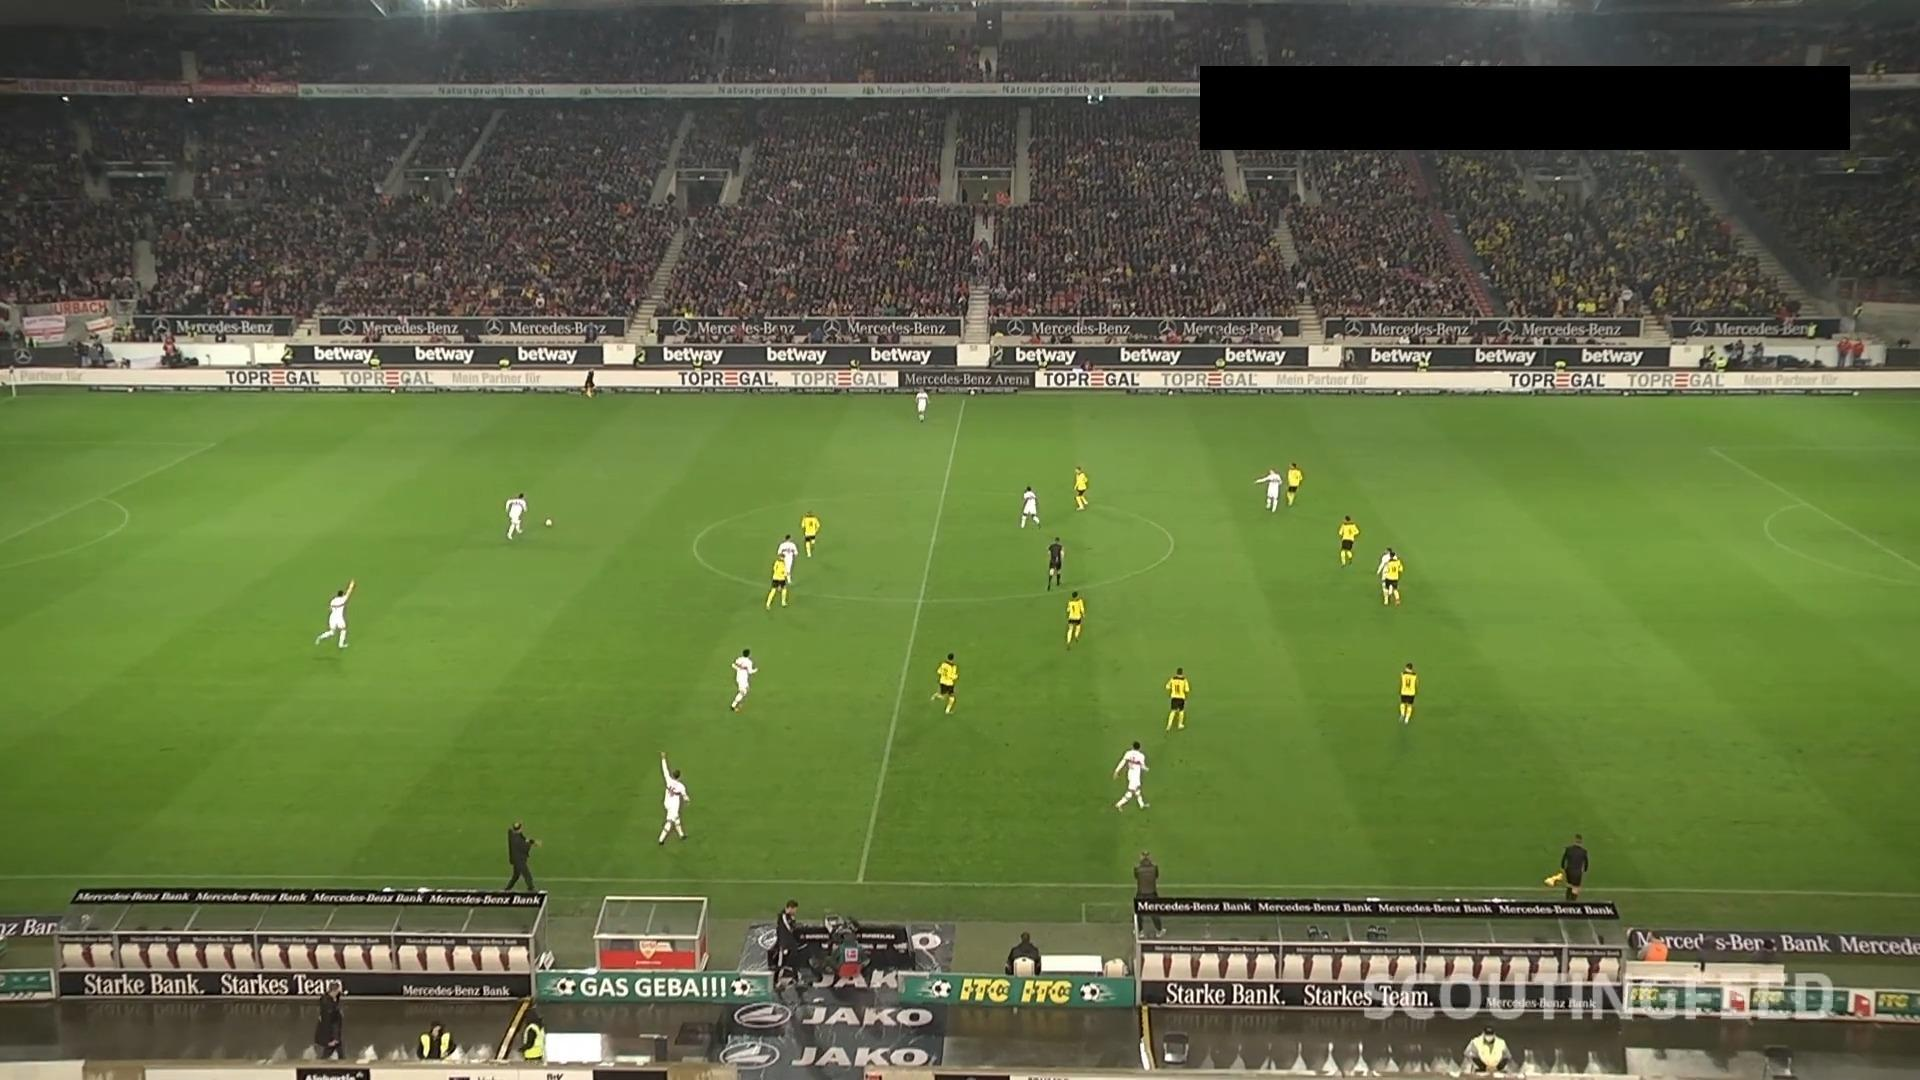ball: (543, 517, 554, 529)
